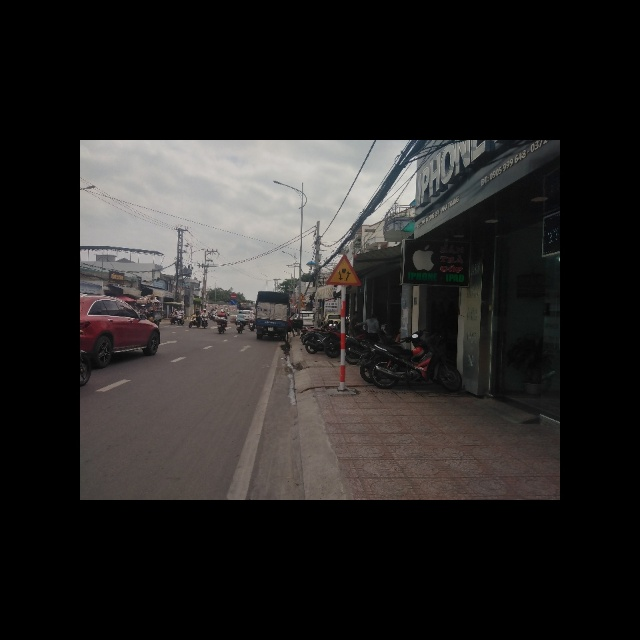Đường đôi: (324, 252, 362, 286)
